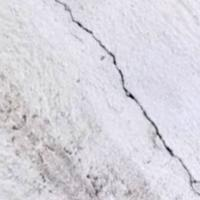crack: (58, 0, 199, 194)
